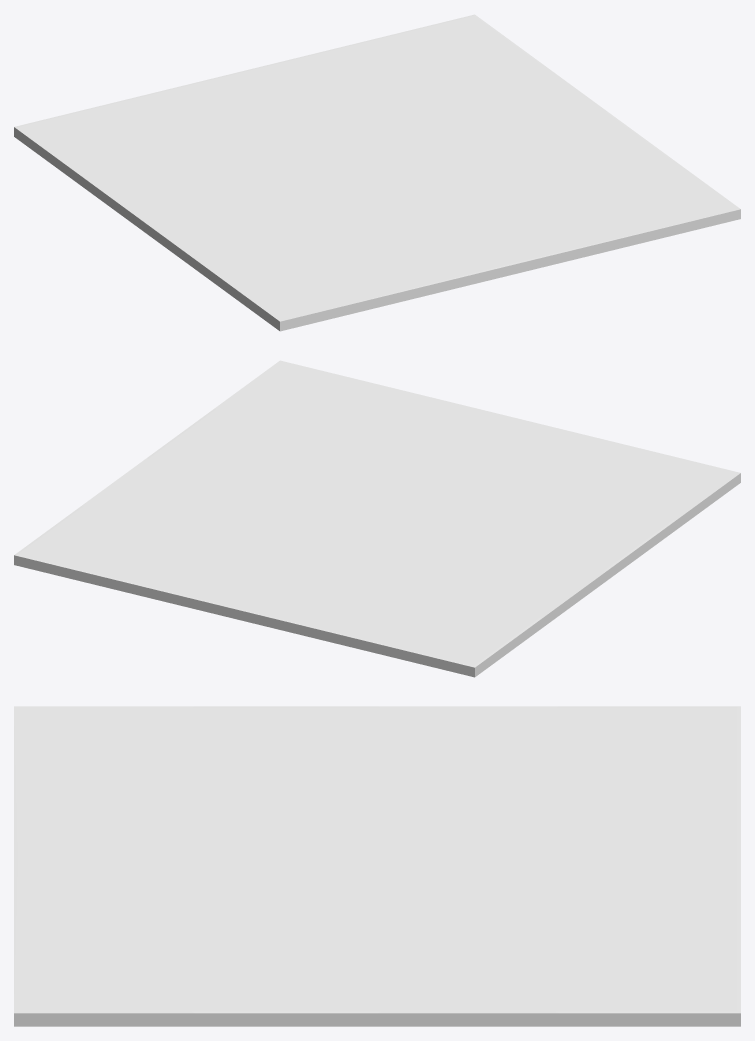
Rendered from FloorBoards.fbx.
The picture shows the model from 3 angles, top to bottom: view 1: azimuth 30°, elevation 25°; view 2: azimuth 150°, elevation 25°; view 3: azimuth 270°, elevation 25°; orthographic projection. The views are drawn at different scales.
Parts seen in each view (by area): view 1: Floor; view 2: Floor; view 3: Floor.
Part boxes in pixels (left/top/right/bottom): Floor: left=14, top=14, right=740, bottom=331; Floor: left=14, top=360, right=740, bottom=677; Floor: left=14, top=706, right=740, bottom=1026.
Size of the model in its own units: 200 by 4.09 by 200.
